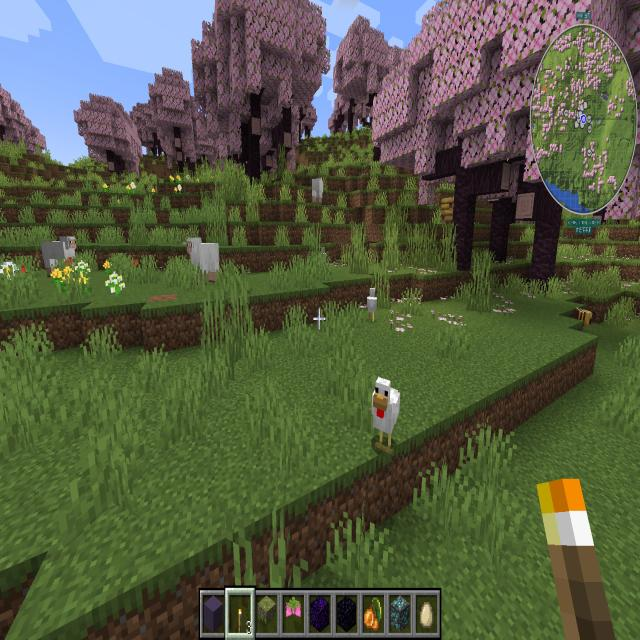bee: (572, 301, 594, 332)
chicken: (367, 373, 402, 460), (364, 284, 380, 328)
